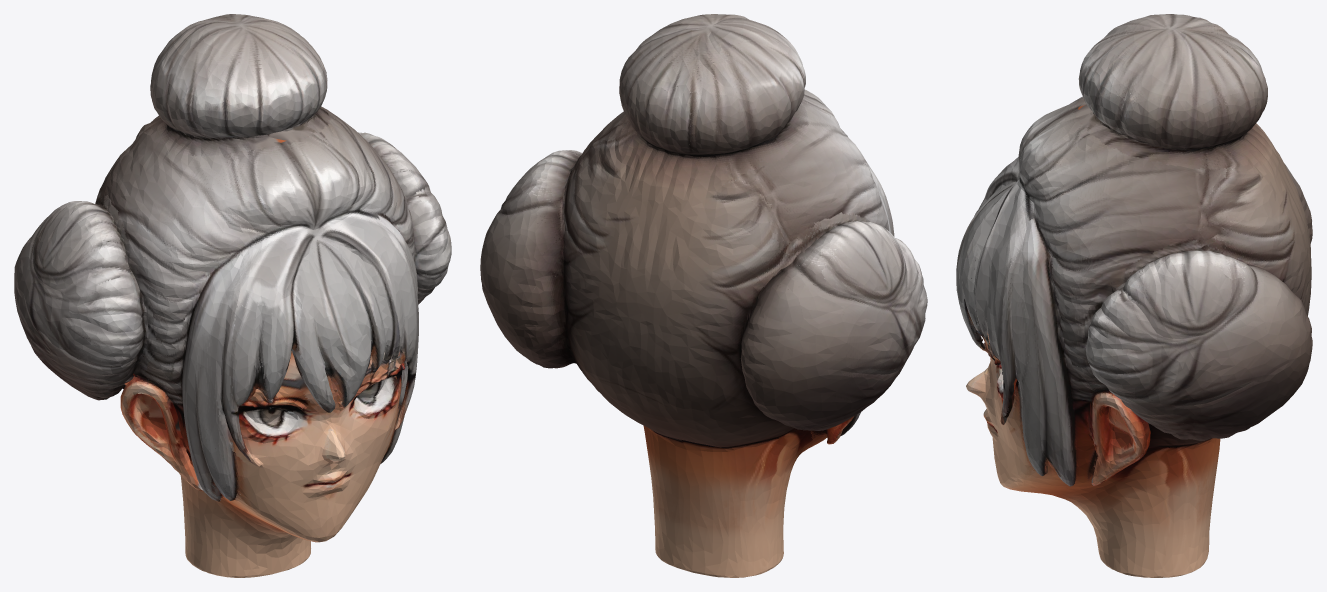
Rendered from side_nihime_repaired_atlas.glb.
The picture shows the model from 3 angles, left to right: view 1: azimuth 30°, elevation 25°; view 2: azimuth 150°, elevation 25°; view 3: azimuth 270°, elevation 25°; orthographic projection. The views are drawn at different scales.
Parts seen in each view (by area): view 1: temp_mesh.ply; view 2: temp_mesh.ply; view 3: temp_mesh.ply.
Part boxes in pixels (x1=…): temp_mesh.ply: x1=14, y1=14, x2=451, y2=577; temp_mesh.ply: x1=480, y1=14, x2=927, y2=577; temp_mesh.ply: x1=956, y1=14, x2=1312, y2=577.
Bounding box in the file's own units: 1.27 × 1.6 × 0.9826.
1 material, 1 textured.
